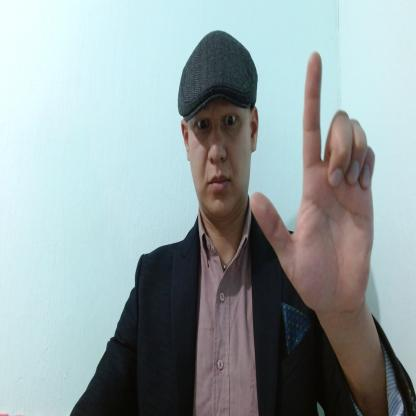L: (251, 53, 373, 309)
